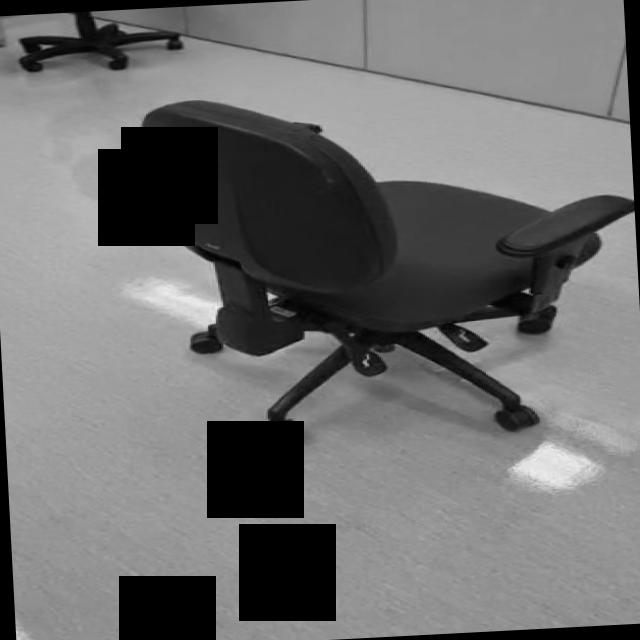cadeira-azul: (139, 78, 640, 449)
